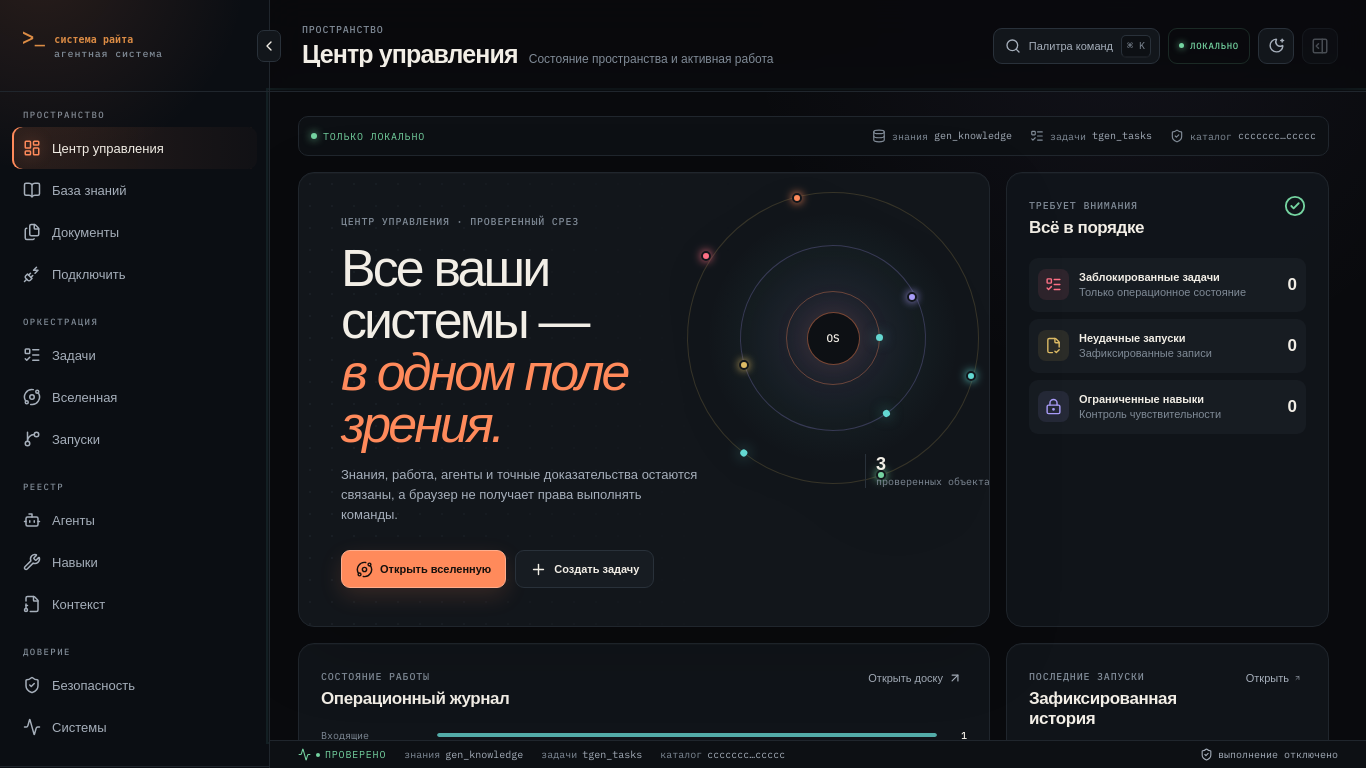
Test: reviewed visual baselines › shows a focus-contained modal over an inert workspace
This screenshot has width=1366, height=768.
Click the button "Палитра команд ⌘ K" at (1076, 46), box 993,28 -> 1160,64
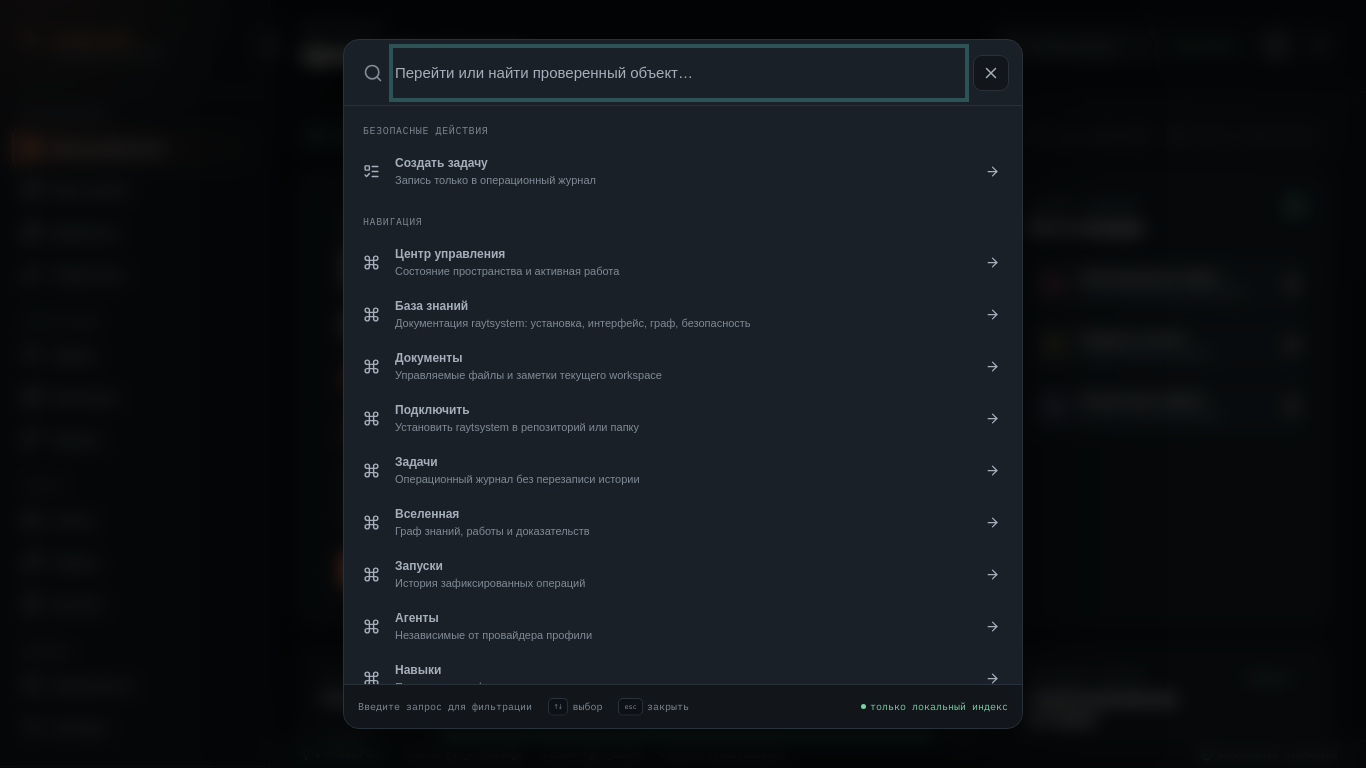
expect the dialog named "Палитра команд" is shown: met, box 343,39 -> 1023,729
